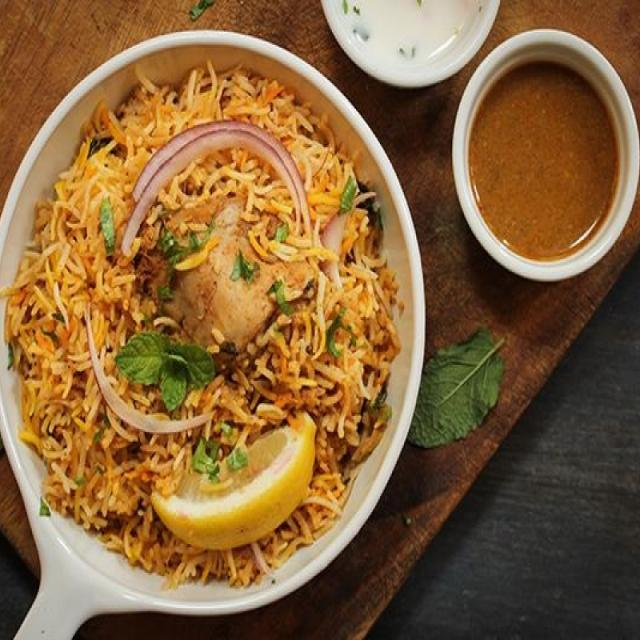Biryani: (7, 66, 400, 599)
